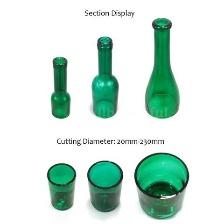bottle: (141, 13, 185, 122), (90, 32, 121, 122), (46, 51, 78, 120)
glass: (130, 146, 193, 221), (85, 155, 126, 213), (40, 156, 80, 214)
